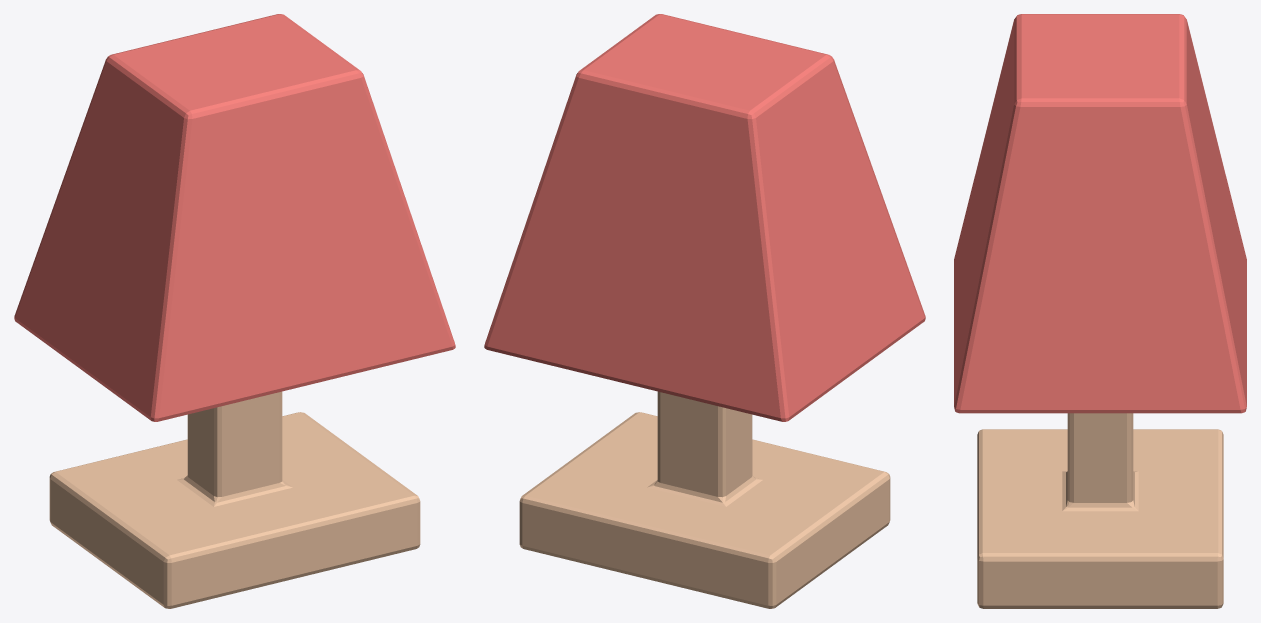
The model's file is Lamp.fbx.
The picture shows the model from 3 angles, left to right: view 1: azimuth 30°, elevation 25°; view 2: azimuth 150°, elevation 25°; view 3: azimuth 270°, elevation 25°; orthographic projection. The views are drawn at different scales.
Visible parts, largest first — view 1: Lamp; view 2: Lamp; view 3: Lamp.
Part boxes in pixels (bbox=[...]): Lamp: bbox=[14, 14, 455, 608]; Lamp: bbox=[484, 14, 925, 608]; Lamp: bbox=[954, 14, 1246, 608].
Size of the model in its own units: 58.49 by 87.28 by 47.22.
